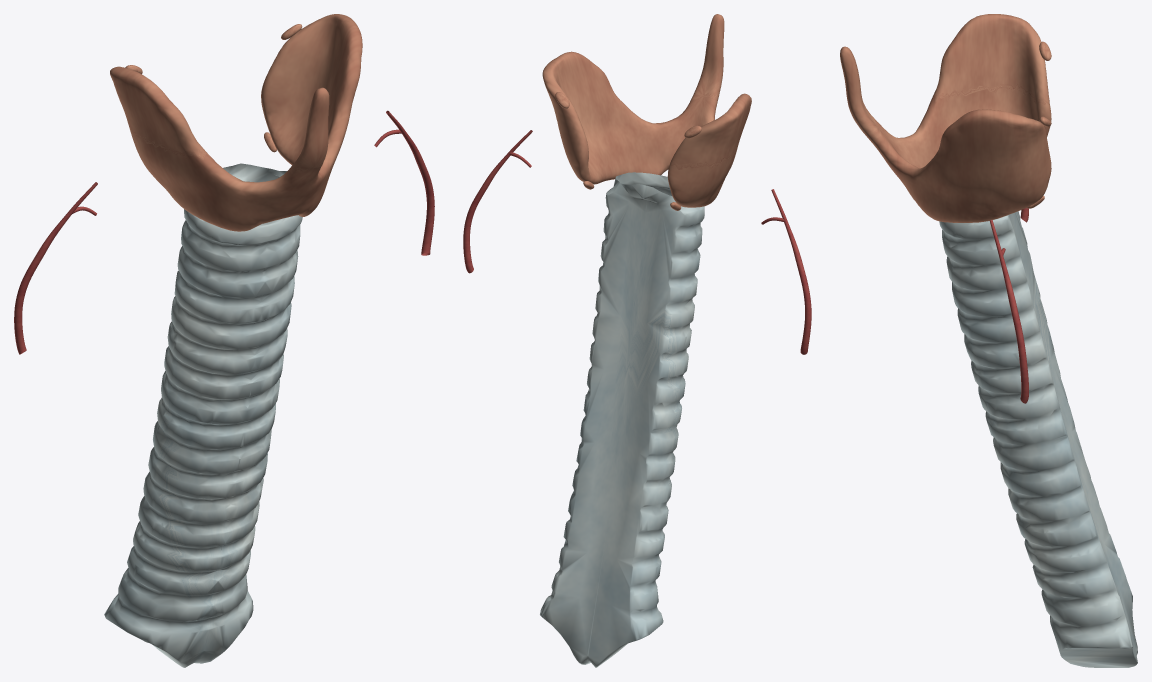
Rendered from thyroid.glb.
3 renders of one model, left to right at view 1: azimuth 30°, elevation 25°; view 2: azimuth 150°, elevation 25°; view 3: azimuth 270°, elevation 25°, orthographic. The views are drawn at different scales.
Parts seen in each view (by area): view 1: Trachea.001, Thyroid gland.001, Inferior thyroid artery.r.001, Inferior thyroid artery.l.001; view 2: Trachea.001, Thyroid gland.001, Inferior thyroid artery.r.001, Inferior thyroid artery.l.001; view 3: Trachea.001, Thyroid gland.001, Inferior thyroid artery.l.001.
Part boxes in pixels (box(x1,y1,x2,y2)): Trachea.001: box(104, 163, 302, 667); Thyroid gland.001: box(110, 14, 362, 231); Inferior thyroid artery.r.001: box(14, 182, 97, 354); Inferior thyroid artery.l.001: box(374, 110, 434, 255); Trachea.001: box(540, 172, 704, 667); Thyroid gland.001: box(542, 14, 751, 207); Inferior thyroid artery.r.001: box(761, 189, 811, 354); Inferior thyroid artery.l.001: box(463, 130, 532, 273); Trachea.001: box(939, 211, 1137, 667); Thyroid gland.001: box(840, 14, 1051, 222); Inferior thyroid artery.l.001: box(990, 220, 1028, 403).
Bounding box in the file's own units: 0.0868 × 0.1334 × 0.0582.
3 materials, 3 textured.
